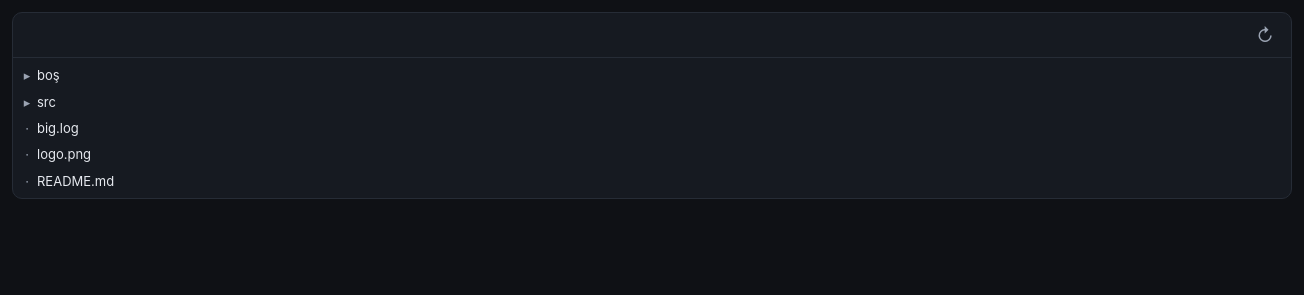
Test: FilesPanel › expands and collapses folders lazily
The image size is (1304, 295).
Click the button "▸ src": (27, 102) [13,88,1291,115]
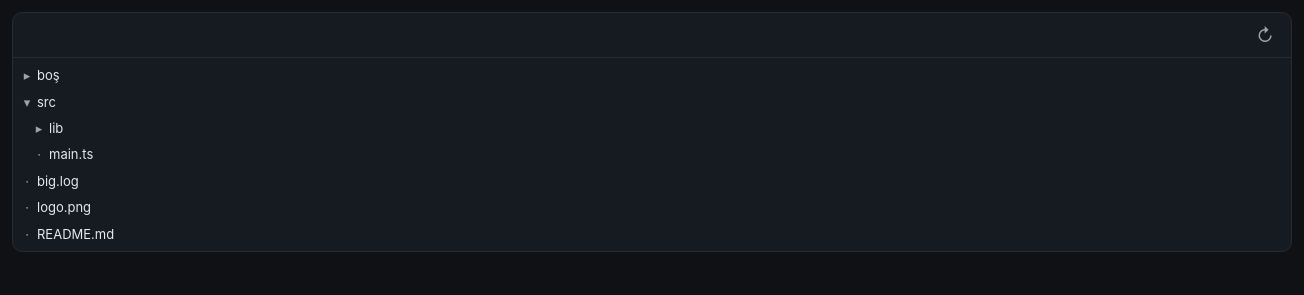
Now the button "▾ src" is expanded, box [13,88,1291,115]
Now the button "· main.ts" is shown, box [13,141,1291,168]
Click the button "▸ lib": (39, 128) [13,115,1291,141]
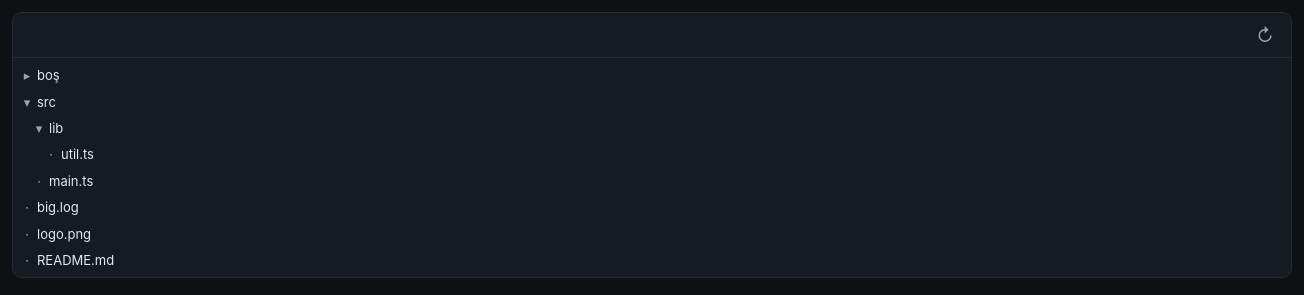
Now the button "· util.ts" is shown, box [13,141,1291,168]
Click the button "▾ src": (27, 102) [13,88,1291,115]
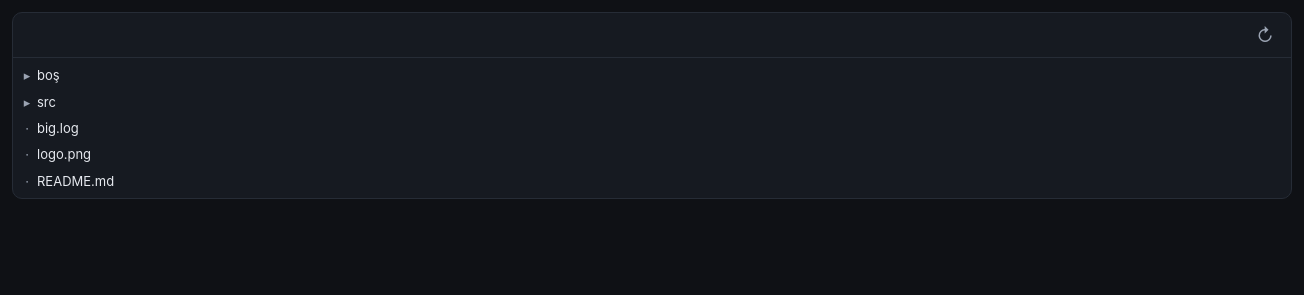
Now the button "main.ts" is gone
Click the button "▸ src": (27, 102) [13,88,1291,115]
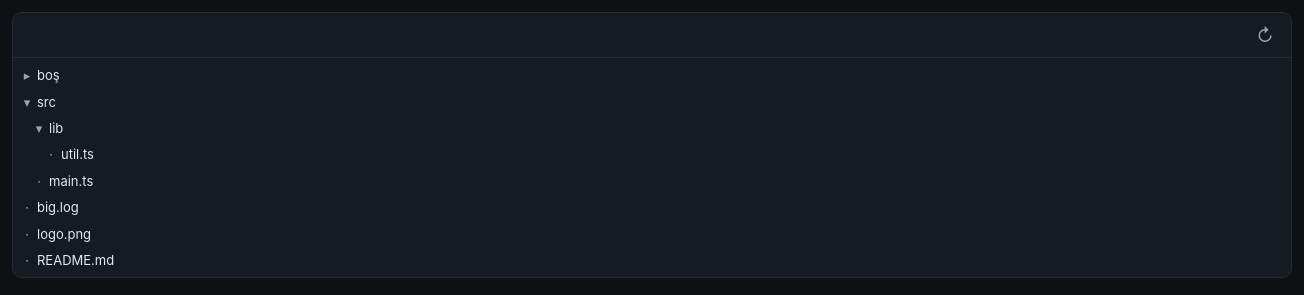
Now the button "· main.ts" is shown, box [13,168,1291,194]
